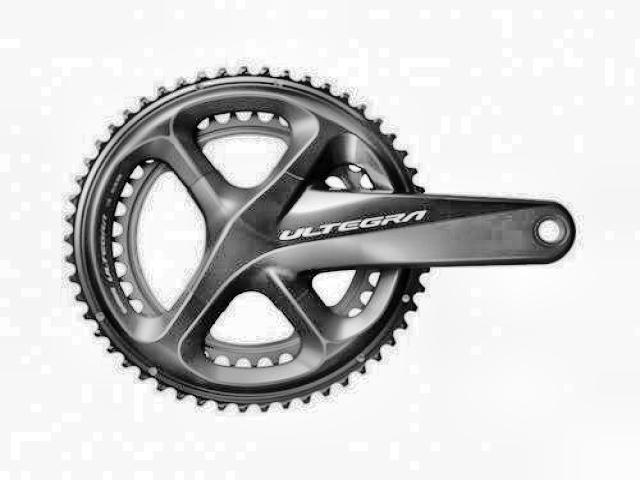cranks_set: (62, 65, 578, 416)
